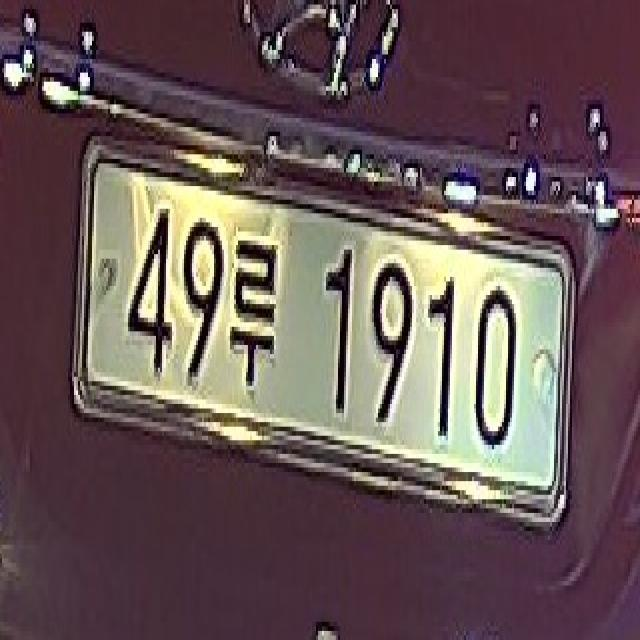0: (471, 280, 524, 470)
1: (322, 221, 360, 432), (426, 270, 459, 460)
4: (122, 190, 175, 384)
9: (368, 242, 414, 442), (184, 215, 223, 393)
license_plate: (55, 118, 580, 549)
lu: (229, 219, 287, 395)
